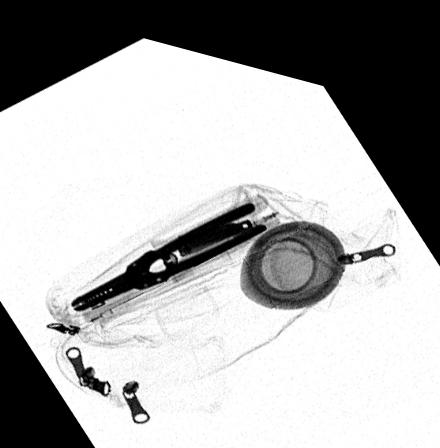Pliers: (71, 187, 269, 306)
